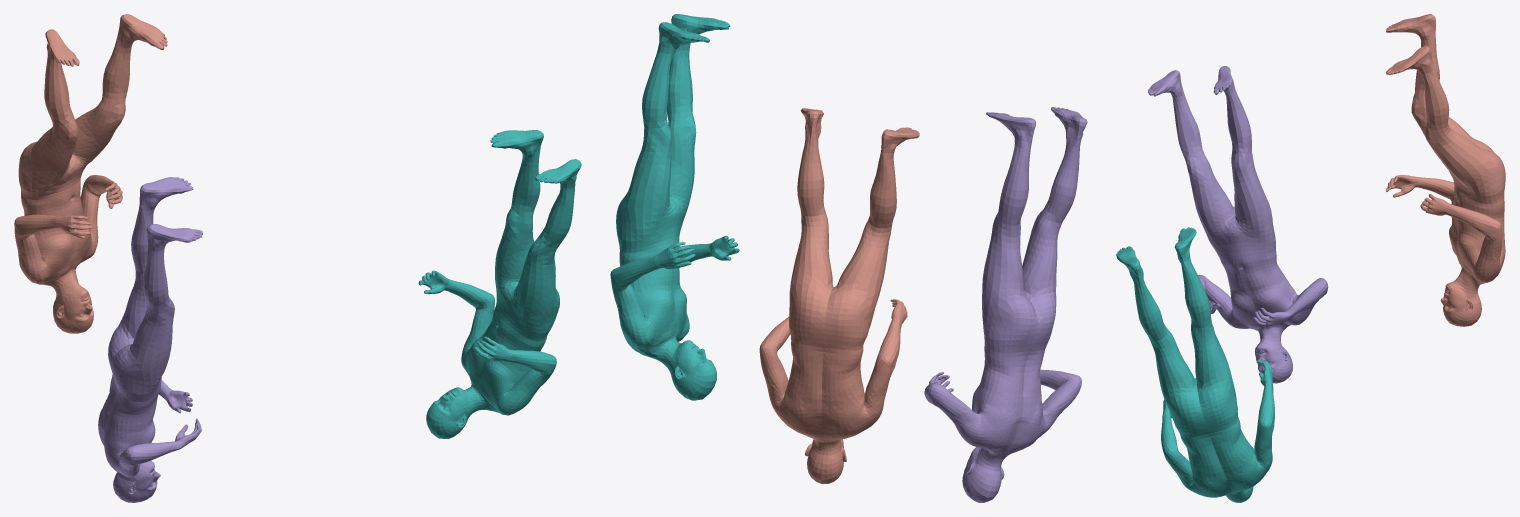
Rendered from all_people_native_world.glb.
3 views of the same model, side by side, from view 1: azimuth 30°, elevation 25°; view 2: azimuth 150°, elevation 25°; view 3: azimuth 270°, elevation 25° (orthographic). The views are drawn at different scales.
Parts seen in each view (by area): view 1: persistent_id_1_slot_1, persistent_id_0_slot_2, persistent_id_2_slot_0; view 2: persistent_id_0_slot_2, persistent_id_2_slot_0, persistent_id_1_slot_1; view 3: persistent_id_2_slot_0, persistent_id_1_slot_1, persistent_id_0_slot_2.
Part boxes in pixels (x1,y1,x2,y2): persistent_id_1_slot_1: (418, 130, 581, 438); persistent_id_0_slot_2: (14, 14, 167, 333); persistent_id_2_slot_0: (98, 177, 202, 502); persistent_id_0_slot_2: (759, 108, 919, 484); persistent_id_2_slot_0: (924, 107, 1087, 502); persistent_id_1_slot_1: (610, 14, 739, 400); persistent_id_2_slot_0: (1148, 66, 1328, 383); persistent_id_1_slot_1: (1116, 227, 1274, 502); persistent_id_0_slot_2: (1385, 14, 1505, 326).
Bounding box in the file's own units: 2.31 × 2.11 × 2.02.
